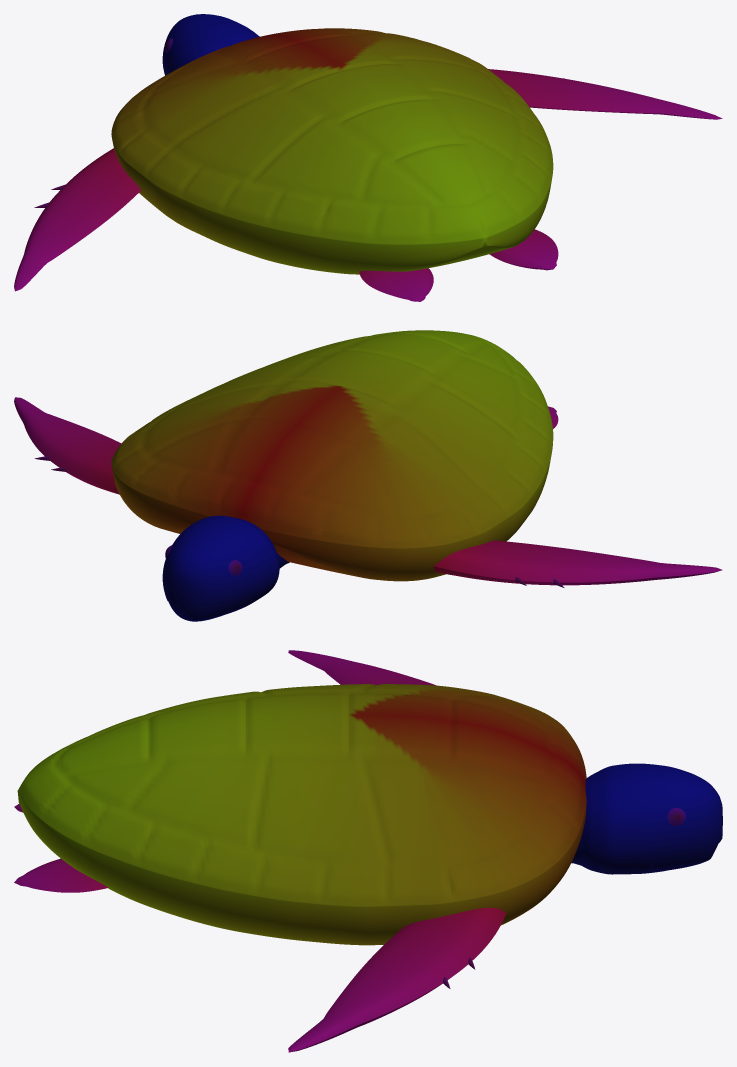
Rendered from sea_turtle_loggerhead.glb.
The picture shows the model from 3 angles, top to bottom: view 1: azimuth 30°, elevation 25°; view 2: azimuth 150°, elevation 25°; view 3: azimuth 270°, elevation 25°; orthographic projection. The views are drawn at different scales.
Visible parts, largest first — view 1: sea_turtle_loggerhead; view 2: sea_turtle_loggerhead; view 3: sea_turtle_loggerhead.
Part boxes in pixels (x1,y1,x2,y2): sea_turtle_loggerhead: (14, 14, 722, 301); sea_turtle_loggerhead: (14, 330, 722, 621); sea_turtle_loggerhead: (14, 650, 722, 1052).
Size of the model in its own units: 1.67 by 0.306 by 1.24.
